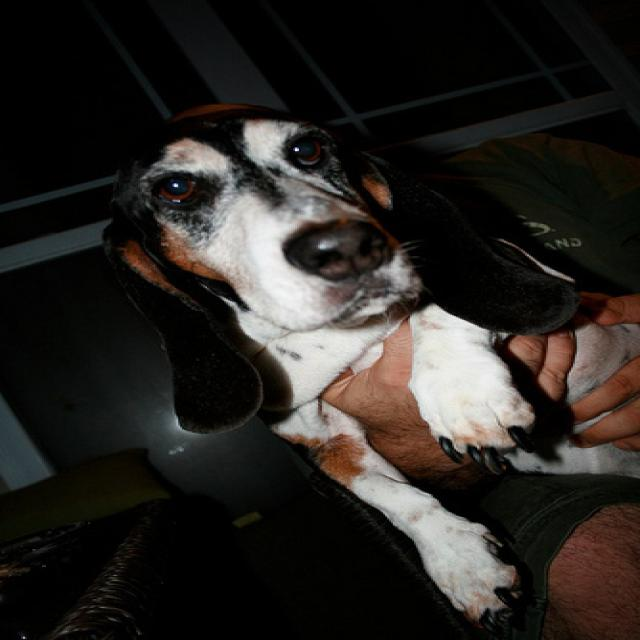dog-basset_hound: (77, 97, 636, 637)
